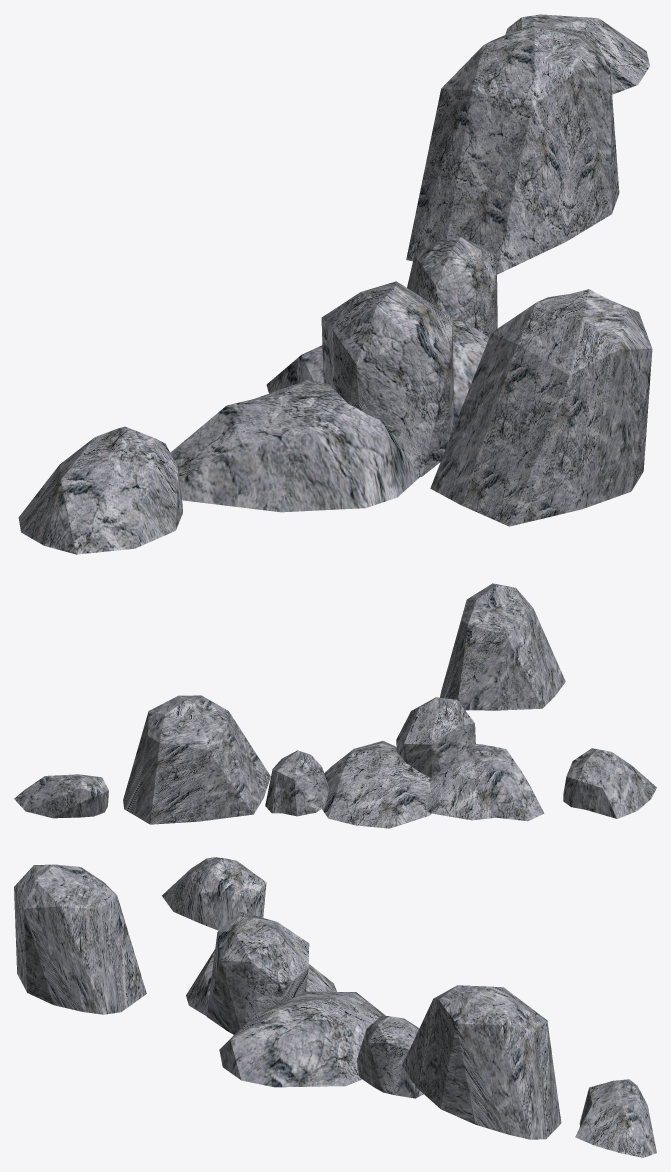
The model's file is des_rockgp2_17.obj.
3 views of the same model, one above another, from view 1: azimuth 30°, elevation 25°; view 2: azimuth 150°, elevation 25°; view 3: azimuth 270°, elevation 25° (orthographic). The views are drawn at different scales.
Visible parts, largest first — view 1: des_rockgp2_17; view 2: des_rockgp2_17; view 3: des_rockgp2_17.
Boxes of the visible parts, x1,y1,x2,y2 form: des_rockgp2_17: (18,14,652,554); des_rockgp2_17: (14,583,656,828); des_rockgp2_17: (14,857,656,1157).
Size of the model in its own units: 130 by 37.18 by 122.
2 materials, 2 textured.
